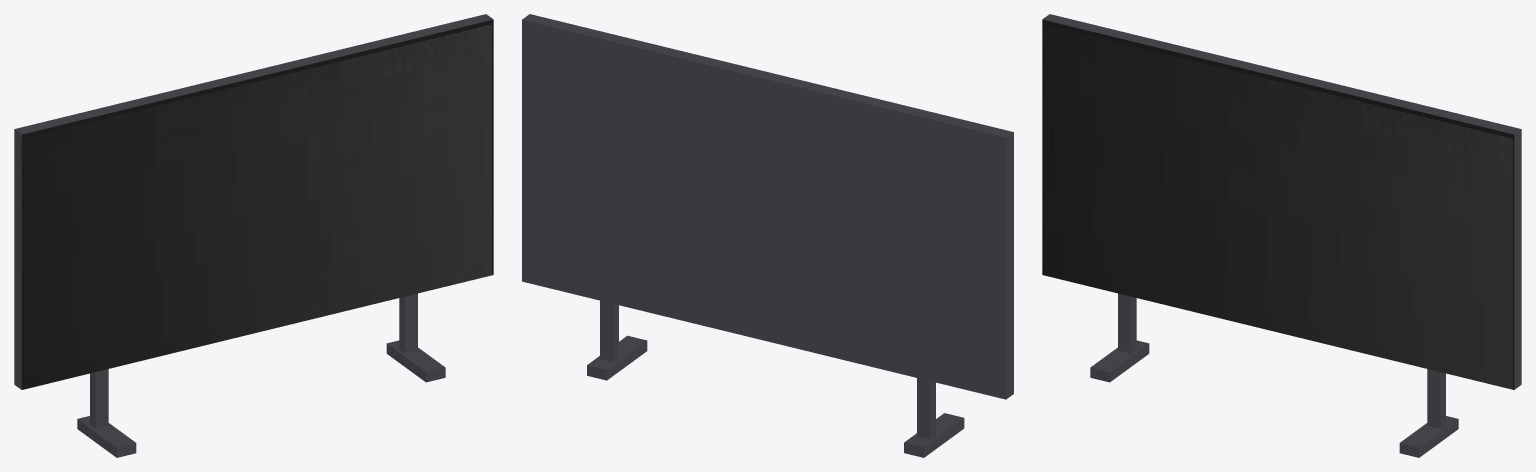
File: Building_MegascreenTelevision.glb
3 renders of one model, left to right at view 1: azimuth 30°, elevation 25°; view 2: azimuth 150°, elevation 25°; view 3: azimuth 330°, elevation 25°, orthographic. The views are drawn at different scales.
Visible parts, largest first — view 1: MegascreenTelevision; view 2: MegascreenTelevision; view 3: MegascreenTelevision.
Boxes of the visible parts, box(x1,y1,x2,y2) form: MegascreenTelevision: box(14, 14, 493, 457); MegascreenTelevision: box(522, 14, 1013, 457); MegascreenTelevision: box(1042, 14, 1521, 457).
Bounding box in the file's own units: 2.9 × 1.9 × 0.42.
1 material, 1 textured.
